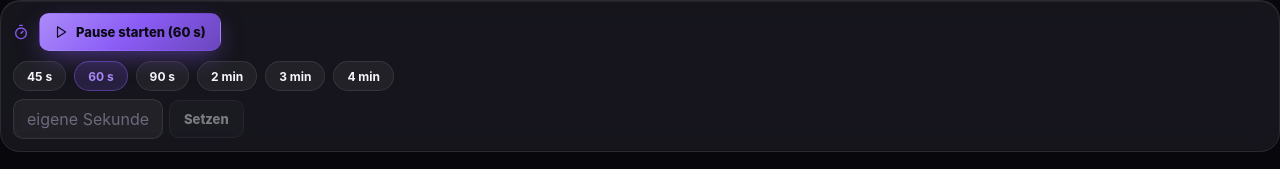
Test: RestTimer — adjustable pauses › says when the rest is over
Click the button "Pause starten (60 s)" at (130, 32), box [39, 13, 221, 51]
Wait 61000 ms
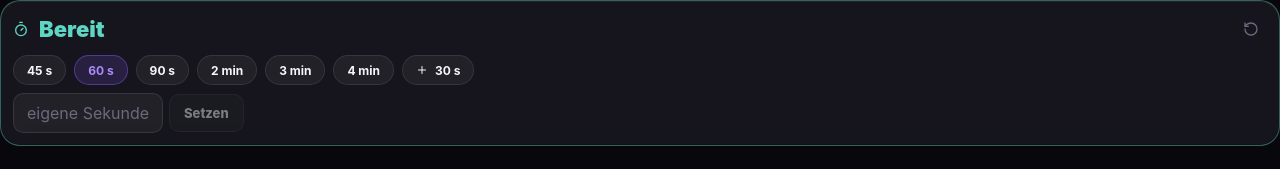
Expected: the text "Bereit" is shown, [39, 16, 104, 42]
